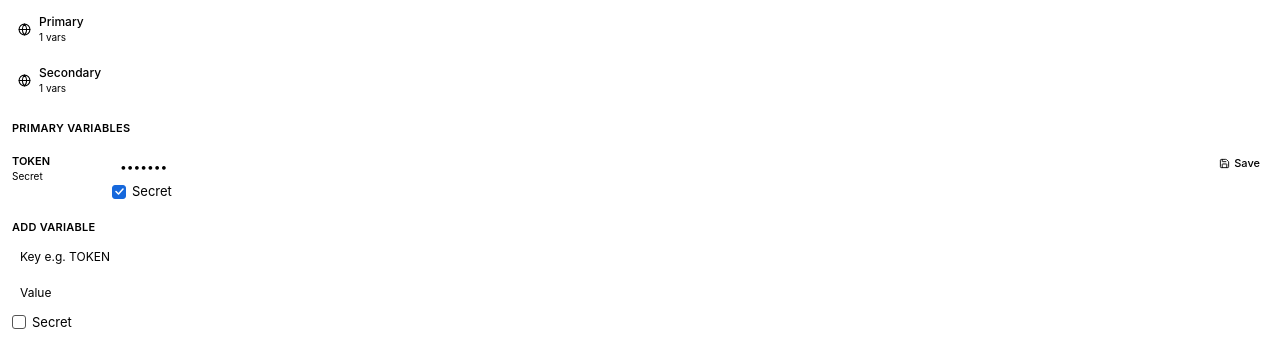
Test: EnvironmentPanel › resets variable row state when switching environments and exposes active state
In the password field with placeholder "Variable value": (658, 166) x1=112 y1=152 x2=1203 y2=180, type "edited-local"
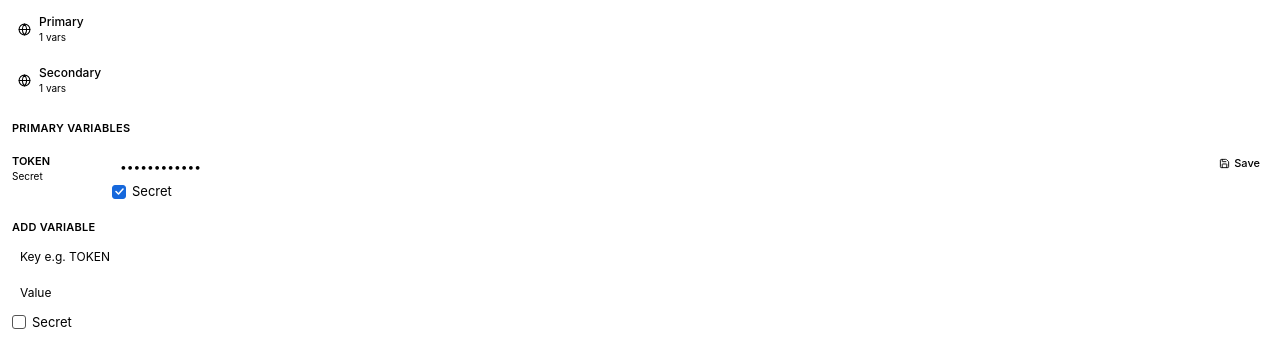
Click the button "Secondary 1 vars": (70, 72) x1=8 y1=57 x2=1272 y2=104
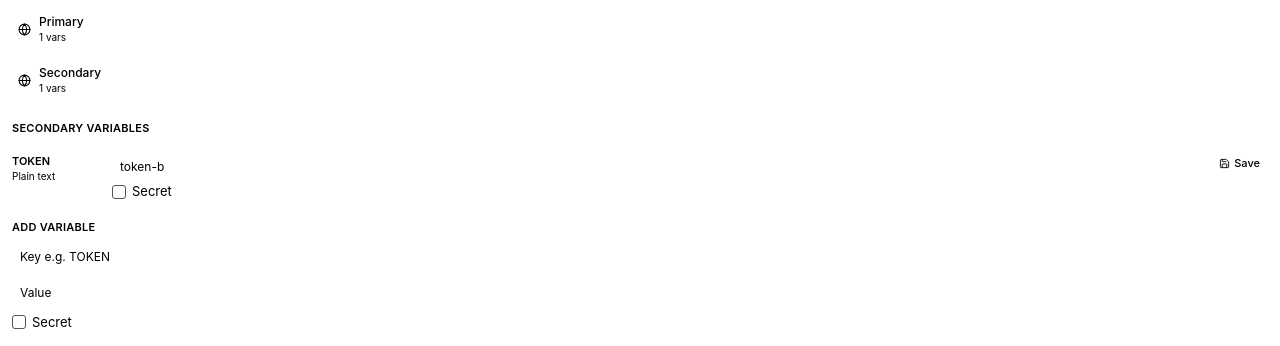
Expected: the field with placeholder "Variable value" holds "token-b", x1=112 y1=152 x2=1203 y2=180
